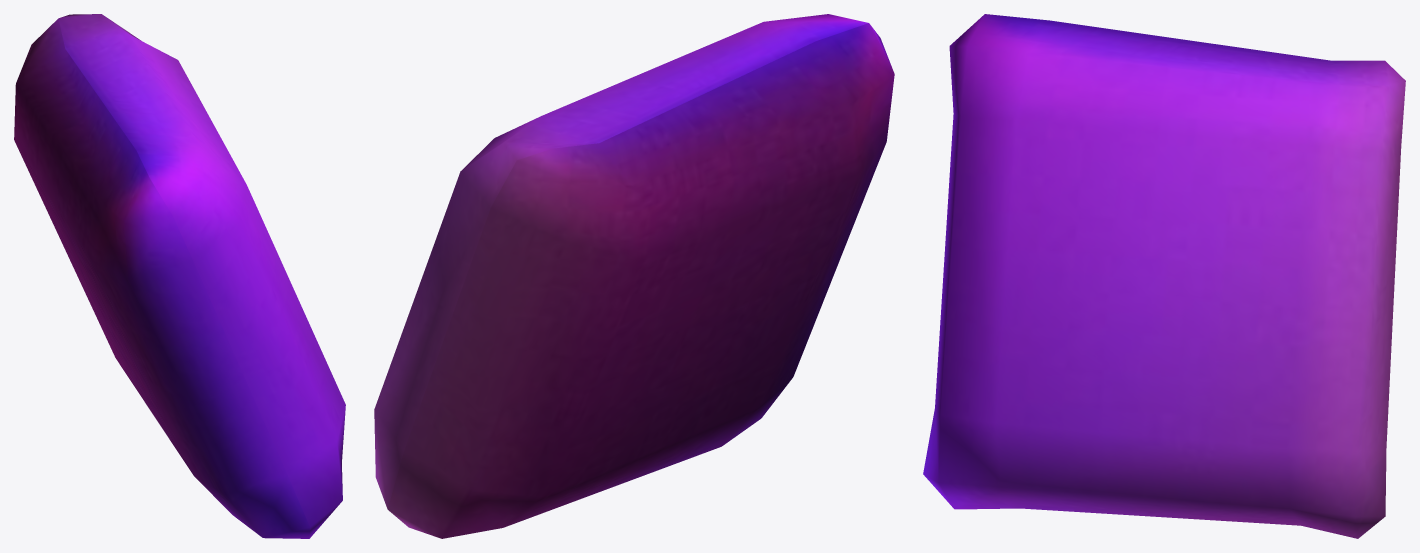
File: cleanChaiseCushion.glb
3 renders of one model, left to right at view 1: azimuth 30°, elevation 25°; view 2: azimuth 150°, elevation 25°; view 3: azimuth 270°, elevation 25°, orthographic. The views are drawn at different scales.
Visible parts, largest first — view 1: chaiseCushion; view 2: chaiseCushion; view 3: chaiseCushion.
Part boxes in pixels (x1=…): chaiseCushion: x1=14, y1=14, x2=345, y2=538; chaiseCushion: x1=374, y1=14, x2=894, y2=538; chaiseCushion: x1=923, y1=14, x2=1405, y2=538.
Bounding box in the file's own units: 0.4796 × 0.6186 × 0.6428.
Materials: 1 (1 with a texture image).
